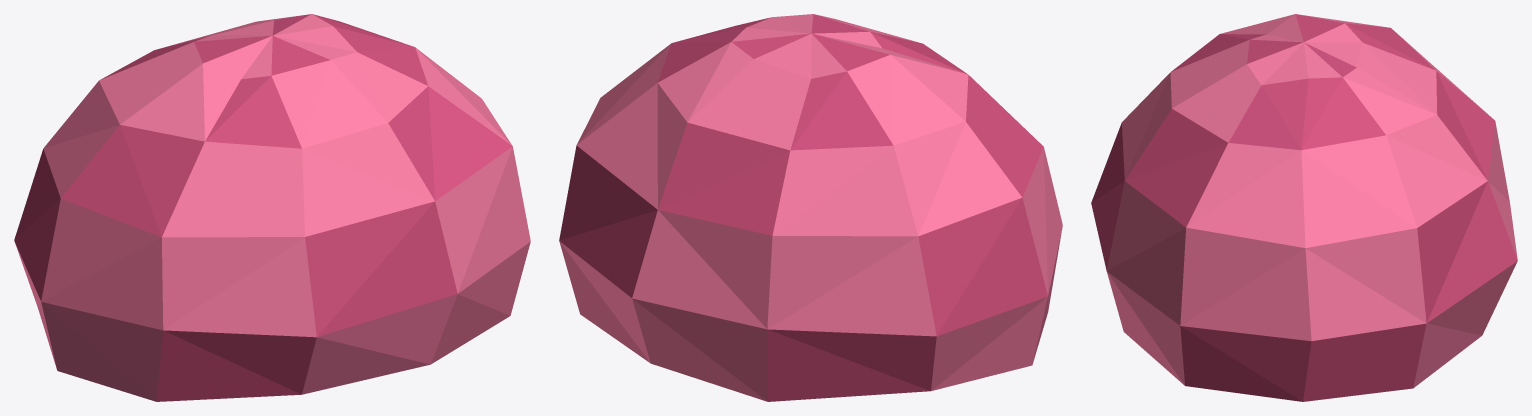
The model's file is coral_brain_pink.fbx.
3 renders of one model, left to right at view 1: azimuth 30°, elevation 25°; view 2: azimuth 150°, elevation 25°; view 3: azimuth 270°, elevation 25°, orthographic. The views are drawn at different scales.
Visible parts, largest first — view 1: coral_brain_pink; view 2: coral_brain_pink; view 3: coral_brain_pink.
Part boxes in pixels (x1=…): coral_brain_pink: x1=14, y1=14, x2=530, y2=401; coral_brain_pink: x1=559, y1=14, x2=1062, y2=401; coral_brain_pink: x1=1091, y1=14, x2=1517, y2=401.
Size of the model in its own units: 604 by 346 by 503.
1 material, 1 textured.
